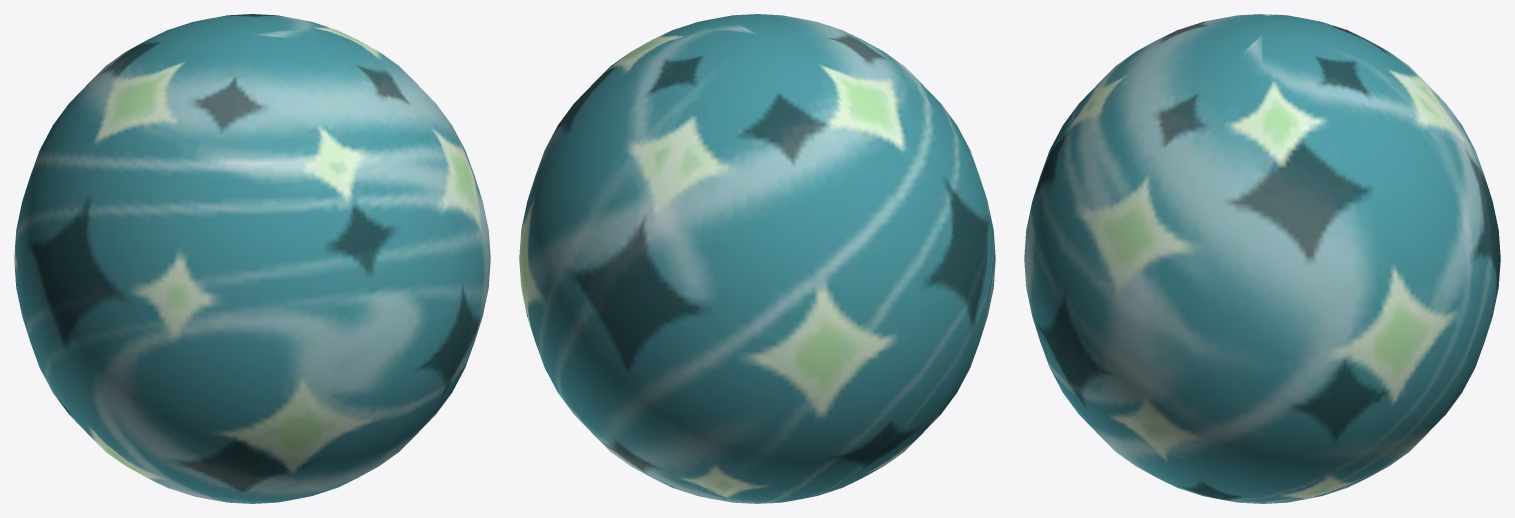
File: bwg_ball_pro__bwg_ball_blue_pro_mirror.glb
3 views of the same model, side by side, from view 1: azimuth 30°, elevation 25°; view 2: azimuth 150°, elevation 25°; view 3: azimuth 270°, elevation 25° (orthographic).
Parts seen in each view (by area): view 1: polygon0; view 2: polygon0; view 3: polygon0.
Part boxes in pixels (bbox=[...]): polygon0: bbox=[14, 14, 490, 503]; polygon0: bbox=[519, 14, 995, 503]; polygon0: bbox=[1024, 14, 1500, 503].
Size of the model in its own units: 2.18 by 2.26 by 2.18.
Materials: 1 (1 with a texture image).
